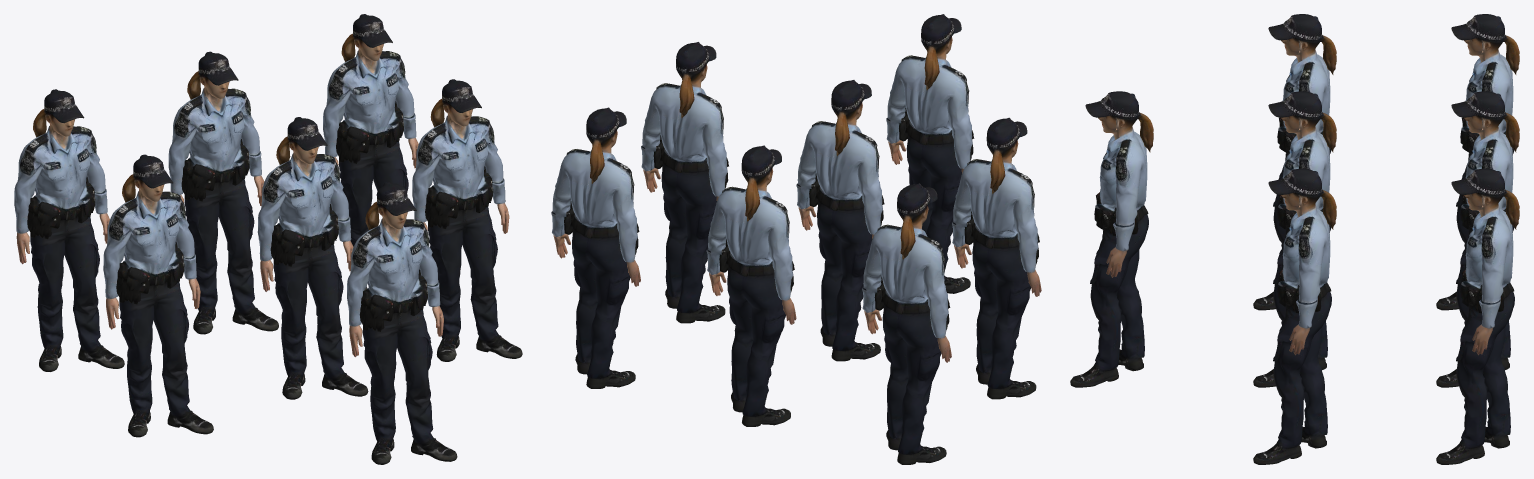
File: parade_aus_idle.glb
3 renders of one model, left to right at view 1: azimuth 30°, elevation 25°; view 2: azimuth 150°, elevation 25°; view 3: azimuth 270°, elevation 25°, orthographic. The views are drawn at different scales.
Visible parts, largest first — view 1: tripo_node_89edf845-0b6e-440e-a772-09aa430884d0.002, tripo_node_89edf845-0b6e-440e-a772-09aa430884d0, tripo_node_89edf845-0b6e-440e-a772-09aa430884d0.005, tripo_node_89edf845-0b6e-440e-a772-09aa430884d0.001, tripo_node_89edf845-0b6e-440e-a772-09aa430884d0.003, tripo_node_89edf845-0b6e-440e-a772-09aa430884d0.004, tripo_node_89edf845-0b6e-440e-a772-09aa430884d0.006; view 2: tripo_node_89edf845-0b6e-440e-a772-09aa430884d0.004, tripo_node_89edf845-0b6e-440e-a772-09aa430884d0.005, tripo_node_89edf845-0b6e-440e-a772-09aa430884d0.002, tripo_node_89edf845-0b6e-440e-a772-09aa430884d0.006, tripo_node_89edf845-0b6e-440e-a772-09aa430884d0.001, tripo_node_89edf845-0b6e-440e-a772-09aa430884d0.003, tripo_node_89edf845-0b6e-440e-a772-09aa430884d0; view 3: tripo_node_89edf845-0b6e-440e-a772-09aa430884d0, tripo_node_89edf845-0b6e-440e-a772-09aa430884d0.006, tripo_node_89edf845-0b6e-440e-a772-09aa430884d0.003, tripo_node_89edf845-0b6e-440e-a772-09aa430884d0.001, tripo_node_89edf845-0b6e-440e-a772-09aa430884d0.004, tripo_node_89edf845-0b6e-440e-a772-09aa430884d0.005, tripo_node_89edf845-0b6e-440e-a772-09aa430884d0.002.
Part boxes in pixels (box(x1,y1,x2,y2)): tripo_node_89edf845-0b6e-440e-a772-09aa430884d0.002: box(103, 154, 213, 437); tripo_node_89edf845-0b6e-440e-a772-09aa430884d0: box(347, 182, 457, 464); tripo_node_89edf845-0b6e-440e-a772-09aa430884d0.005: box(14, 89, 124, 371); tripo_node_89edf845-0b6e-440e-a772-09aa430884d0.001: box(257, 117, 368, 399); tripo_node_89edf845-0b6e-440e-a772-09aa430884d0.003: box(412, 79, 522, 361); tripo_node_89edf845-0b6e-440e-a772-09aa430884d0.004: box(168, 51, 278, 334); tripo_node_89edf845-0b6e-440e-a772-09aa430884d0.006: box(323, 14, 418, 290); tripo_node_89edf845-0b6e-440e-a772-09aa430884d0.004: box(706, 145, 796, 426); tripo_node_89edf845-0b6e-440e-a772-09aa430884d0.005: box(862, 183, 951, 464); tripo_node_89edf845-0b6e-440e-a772-09aa430884d0.002: box(952, 117, 1041, 399); tripo_node_89edf845-0b6e-440e-a772-09aa430884d0.006: box(551, 107, 640, 388); tripo_node_89edf845-0b6e-440e-a772-09aa430884d0.001: box(796, 80, 884, 361); tripo_node_89edf845-0b6e-440e-a772-09aa430884d0.003: box(641, 42, 728, 323); tripo_node_89edf845-0b6e-440e-a772-09aa430884d0: box(886, 14, 974, 293); tripo_node_89edf845-0b6e-440e-a772-09aa430884d0: box(1070, 91, 1153, 387); tripo_node_89edf845-0b6e-440e-a772-09aa430884d0.006: box(1436, 168, 1519, 464); tripo_node_89edf845-0b6e-440e-a772-09aa430884d0.003: box(1253, 168, 1336, 464); tripo_node_89edf845-0b6e-440e-a772-09aa430884d0.001: box(1253, 91, 1336, 387); tripo_node_89edf845-0b6e-440e-a772-09aa430884d0.004: box(1436, 91, 1519, 387); tripo_node_89edf845-0b6e-440e-a772-09aa430884d0.005: box(1436, 14, 1519, 310); tripo_node_89edf845-0b6e-440e-a772-09aa430884d0.002: box(1253, 14, 1336, 310).
Size of the model in its own units: 1.54 by 0.9973 by 1.47.
Materials: 1 (1 with a texture image).
